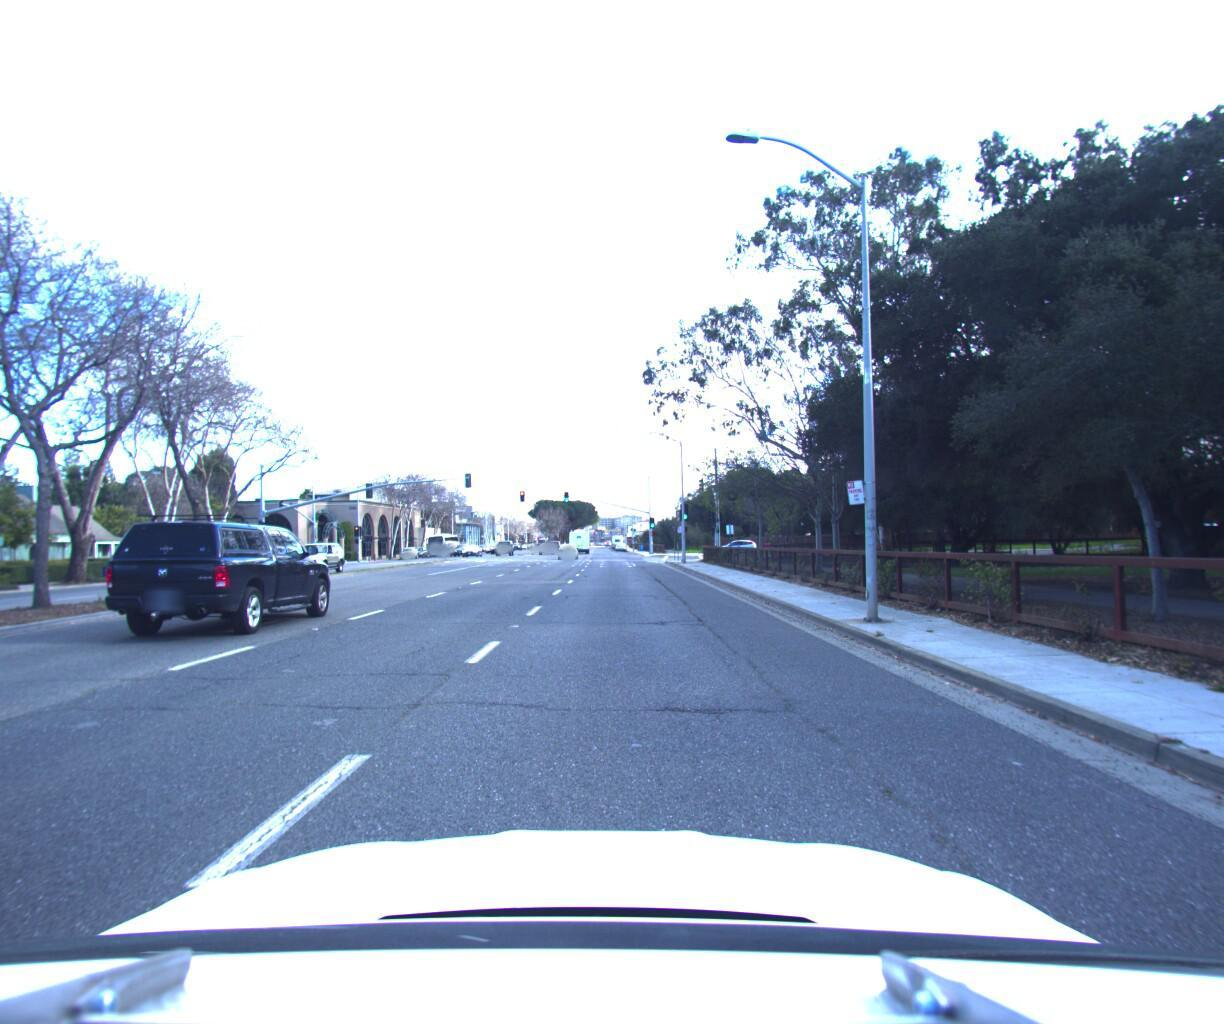car: (108, 505, 344, 638), (286, 534, 352, 569), (711, 530, 756, 546), (556, 534, 579, 553)
